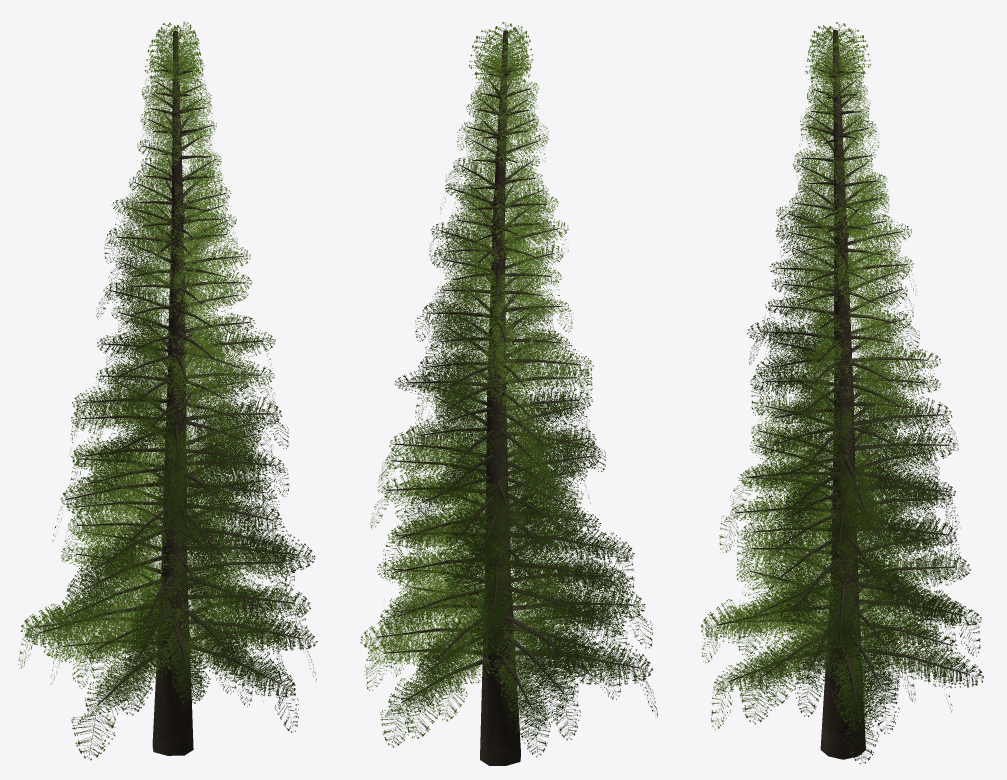
Rendered from larch_sparse_v01_LOD1.fbx.
The picture shows the model from 3 angles, left to right: view 1: azimuth 30°, elevation 25°; view 2: azimuth 150°, elevation 25°; view 3: azimuth 270°, elevation 25°; orthographic projection.
Parts seen in each view (by area): view 1: larch_sparse_v01_LOD1; view 2: larch_sparse_v01_LOD1; view 3: larch_sparse_v01_LOD1.
Boxes of the visible parts, x1,y1,x2,y2 form: larch_sparse_v01_LOD1: (18, 22, 317, 760); larch_sparse_v01_LOD1: (360, 22, 657, 765); larch_sparse_v01_LOD1: (700, 22, 983, 764).
Size of the model in its own units: 539 by 528 by 1421.
2 materials, 2 textured.
